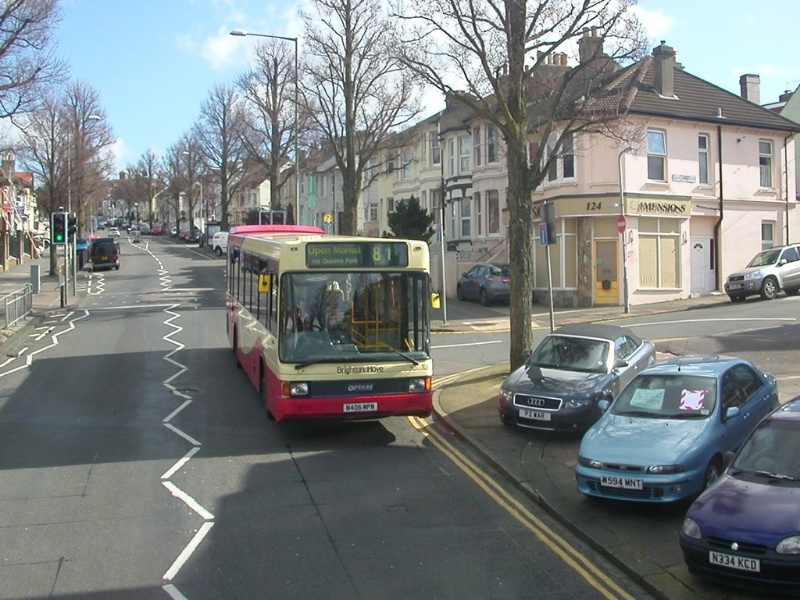green_light: (52, 214, 69, 246)
